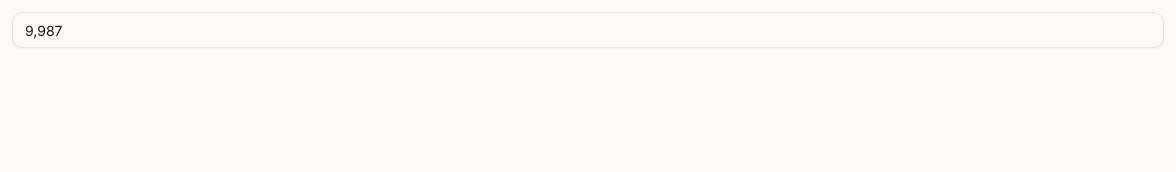
Scenario: DecimalInput › respeita fractionDigits e mantém vazio inválido no blur
Later steps or results of the test are not shown.
Click the field at {"x": 588, "y": 30}, box [12, 12, 1164, 48]
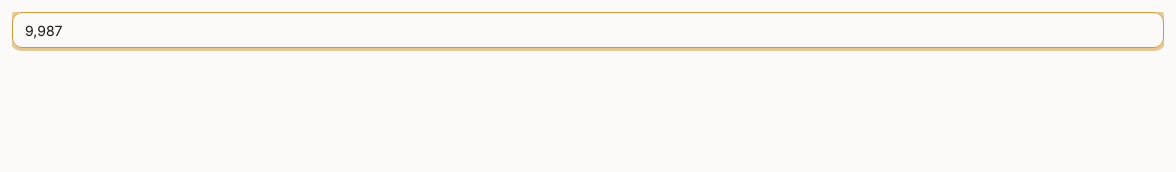
Press Tab
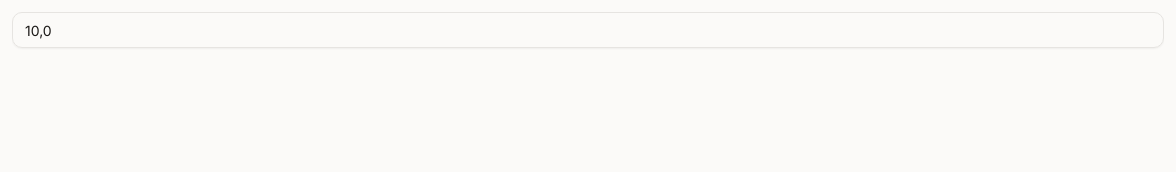
Check: the field holds "10,0", box [12, 12, 1164, 48]
